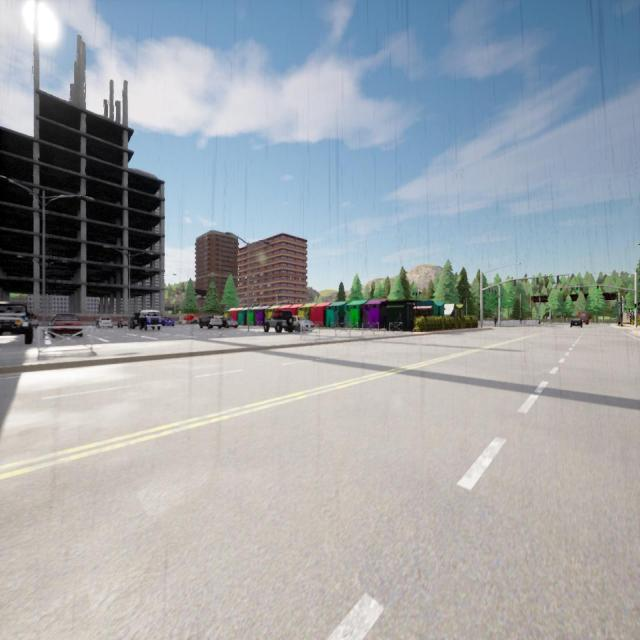Pedestrian: (494, 316, 496, 327)
Vehicle: (1, 302, 32, 345), (48, 314, 83, 338), (264, 312, 291, 332), (140, 311, 160, 330), (292, 315, 313, 331), (200, 315, 223, 329), (125, 313, 138, 328), (98, 316, 113, 328), (223, 317, 238, 328), (577, 312, 589, 324), (161, 316, 174, 326), (570, 318, 582, 327), (118, 318, 128, 328)
traffic_light: (634, 304, 637, 308), (596, 285, 598, 291), (560, 288, 562, 294), (557, 276, 559, 282), (536, 278, 538, 284), (514, 280, 516, 286), (576, 287, 578, 292)
